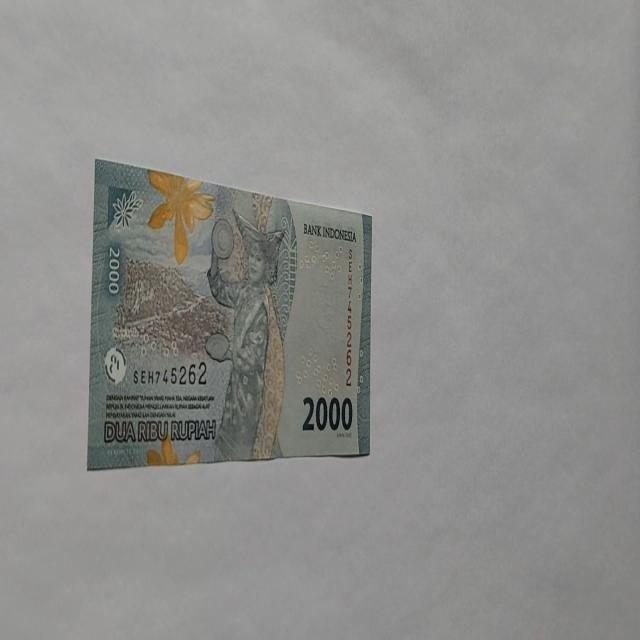dua ribu rupiah: (86, 158, 374, 470), (204, 208, 286, 461), (146, 167, 215, 266)
